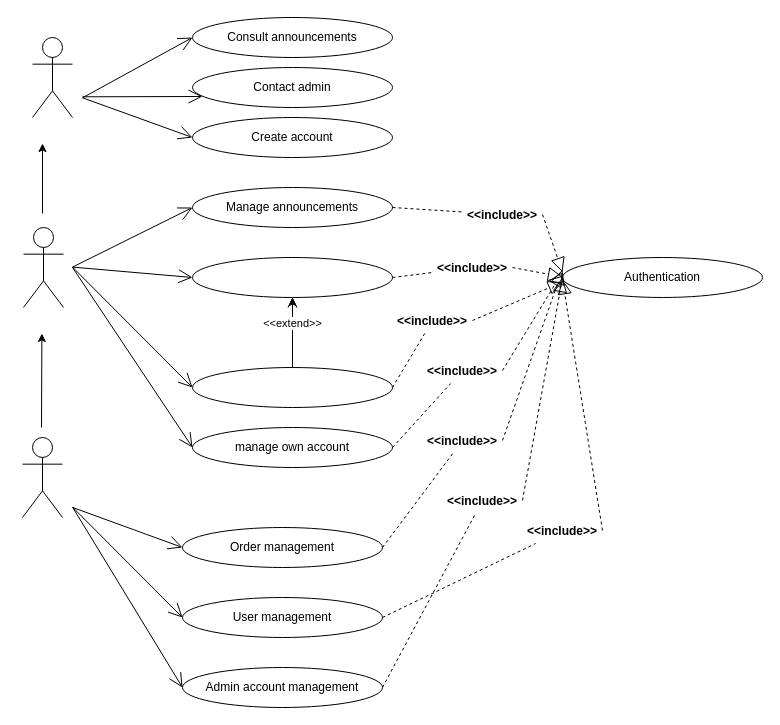
Some shapes in this 780 by 725 pixel diagram are drawn without their labels. The shapes that lost their labels are listed below. From the top down, each one's centre as x and y in pixels, then its label:
At (52,77): "Visitor".
At (43,267): "Customer".
At (292,277): "Make an order".
At (292,387): "Manage cart".
At (42,477): "Admin".
